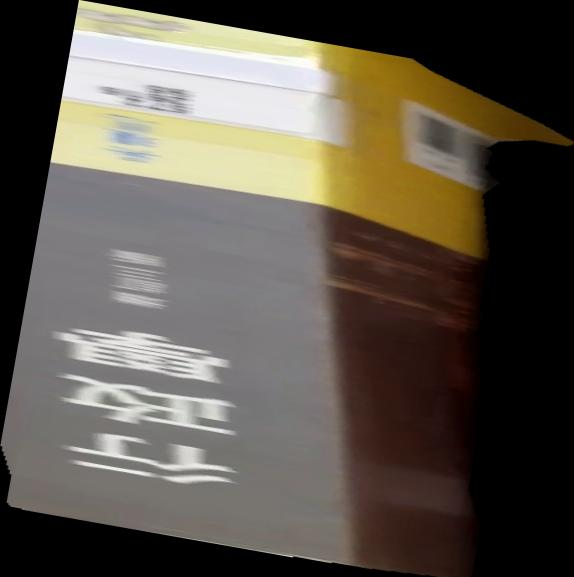reverse: (1, 1, 574, 577)
